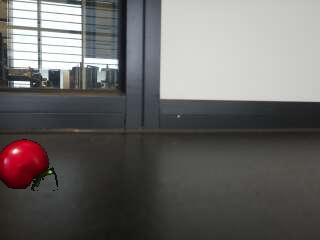Tomato: (0, 138, 58, 194)
